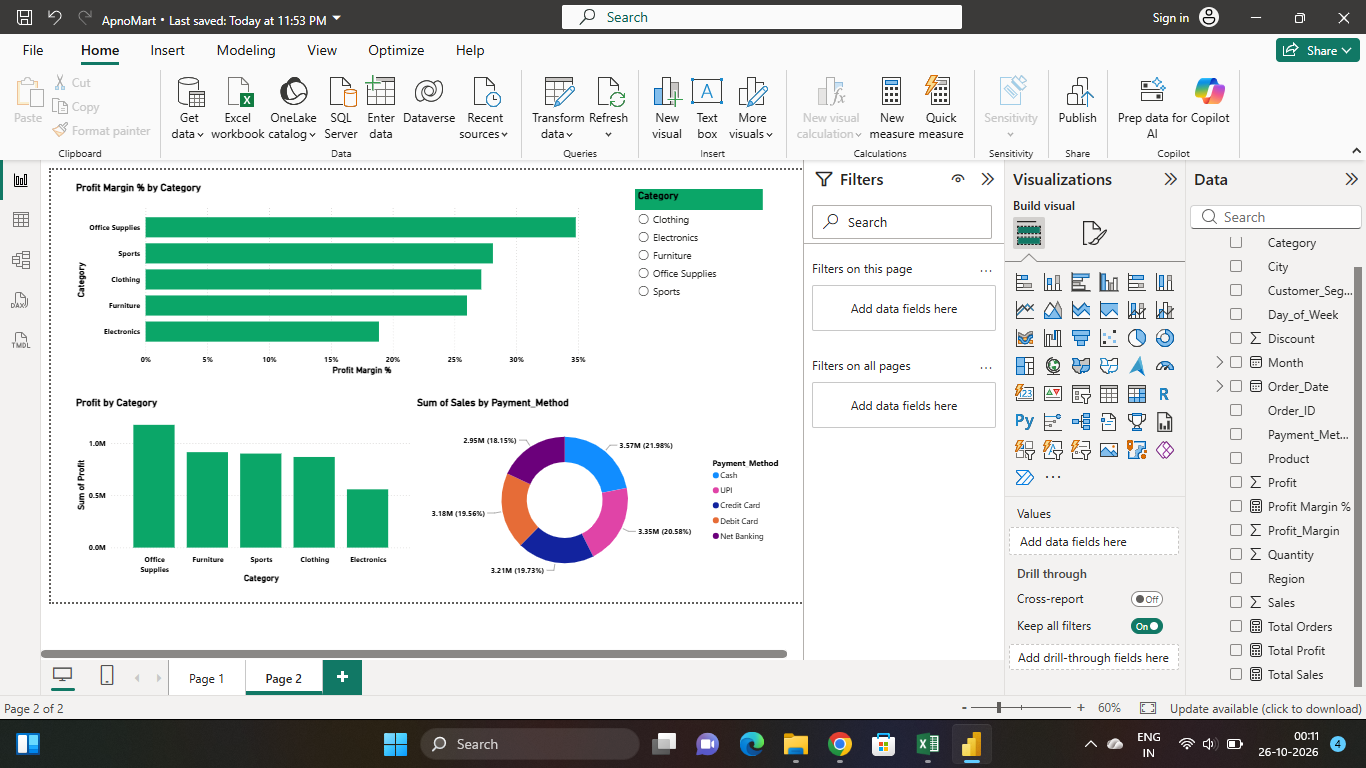

The dashboard page shown, as its layout file describes it:
{"tool":"powerbi","page":{"name":"Page 2","canvas":[1280,720],"ordinal":1},"visuals":[{"type":"clusteredBarChart","fields":{"Category":["apnomart-sales-data.Category"],"Y":["apnomart-sales-data.Profit Margin %"]},"box":[36.7,18.3,860,328.3],"z":0},{"type":"clusteredColumnChart","title":" Profit by Category","fields":{"Category":["apnomart-sales-data.Category"],"Y":["Sum(apnomart-sales-data.Profit)"]},"box":[36.7,376.7,568.3,316.7],"z":1},{"type":"listSlicer","fields":{"Values":["apnomart-sales-data.Category"]},"box":[973.3,31.7,213.3,210],"z":3},{"type":"donutChart","fields":{"Category":["apnomart-sales-data.Payment_Method"],"Y":["Sum(apnomart-sales-data.Sales)"]},"box":[605,376.7,628.3,316.7],"z":4}]}

Visuals, with their boxes in screenshot pixels (x1, y1, x2, y2):
clusteredBarChart - apnomart-sales-data.Category x apnomart-sales-data.Profit Margin %: [137, 29, 1010, 363]
" Profit by Category" clusteredColumnChart: [137, 393, 714, 715]
listSlicer - apnomart-sales-data.Category: [1088, 43, 1304, 256]
donutChart - apnomart-sales-data.Payment_Method x Sum(apnomart-sales-data.Sales): [714, 393, 1352, 715]
